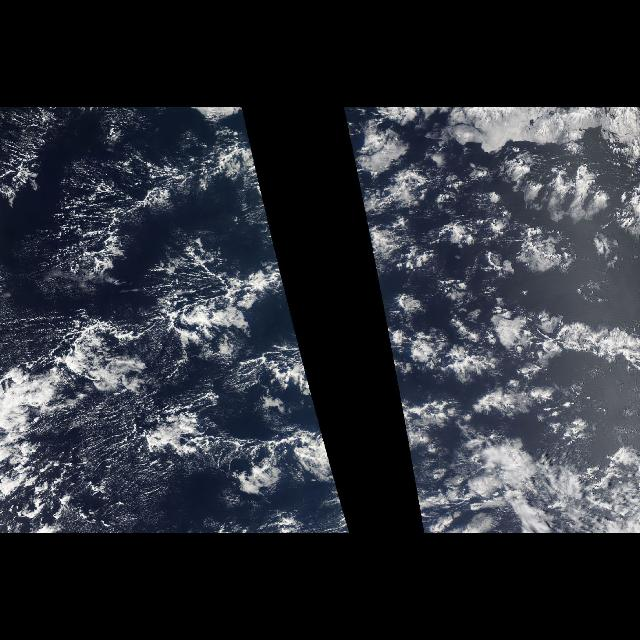Fish: (102, 384, 342, 502), (402, 281, 640, 385)
Flower: (359, 108, 639, 382)
Gravel: (68, 161, 264, 341)
Sugar: (54, 394, 166, 532)
